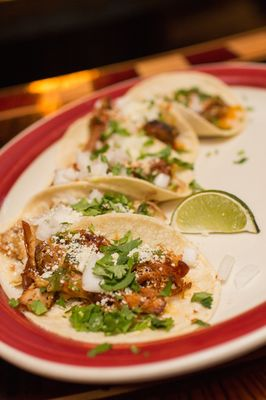curry: (1, 55, 262, 400)
